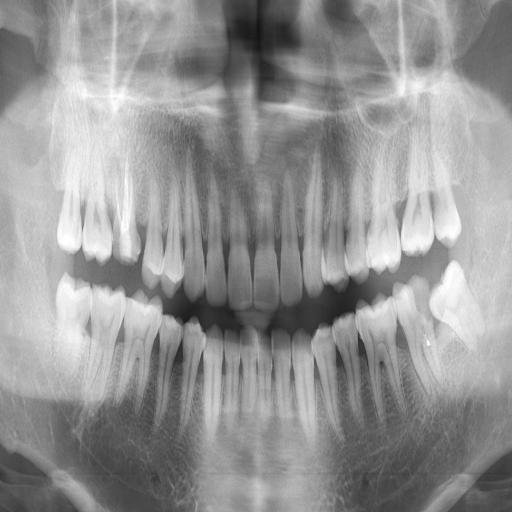Wisdom teeth: (429, 261, 484, 349), (57, 273, 91, 363), (433, 149, 460, 246), (57, 162, 81, 253)
